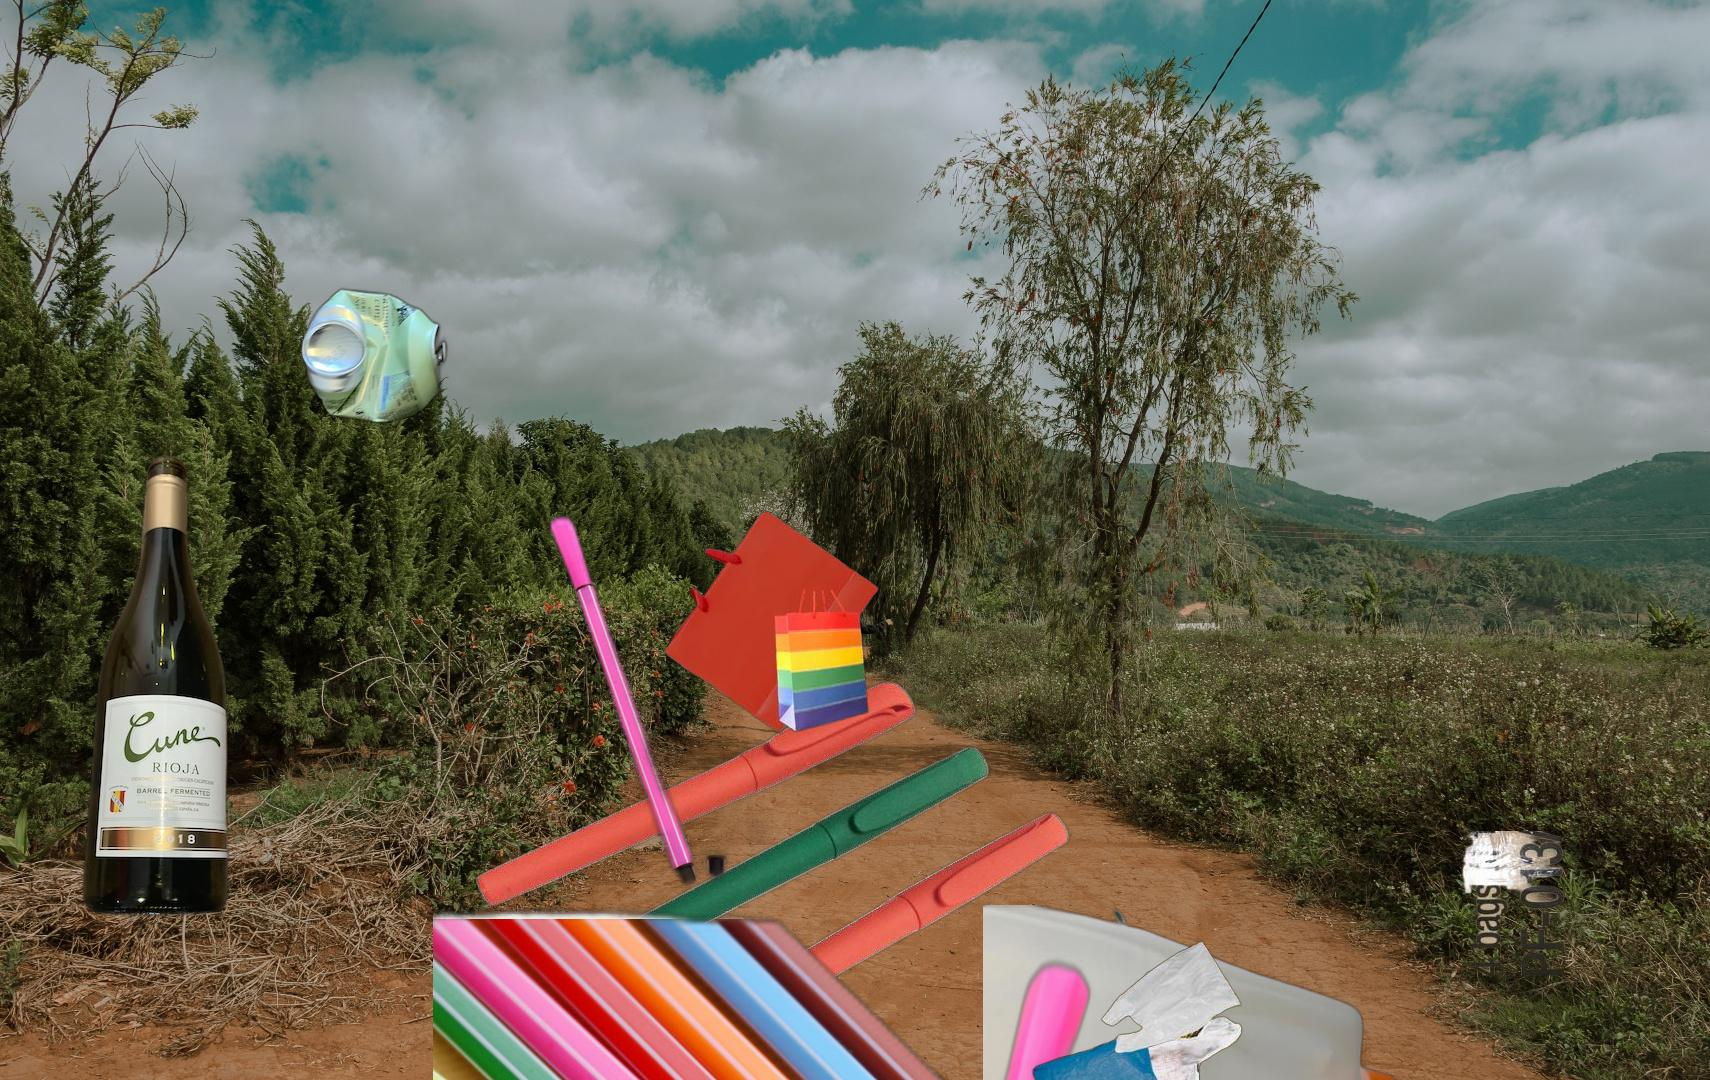glass: (78, 449, 233, 921)
metal-cans: (297, 282, 451, 429)
paper-bag: (663, 508, 882, 737)
penholder: (433, 500, 1125, 1080), (470, 677, 1076, 1073)
plastic-bag: (1028, 939, 1245, 1080)
plastic-bottles: (982, 905, 1407, 1080)
trashbox-cardboard: (1283, 831, 1569, 1080)
